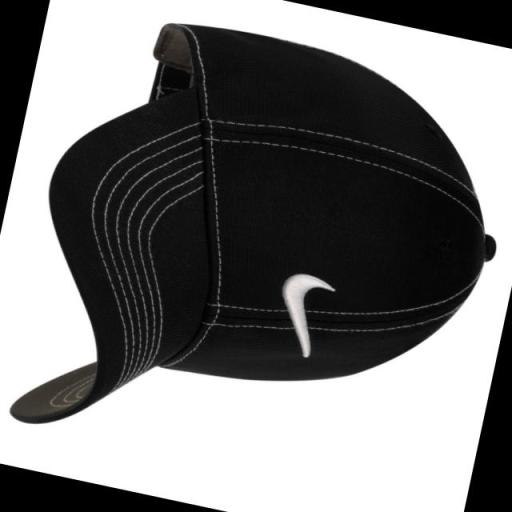Nike: (266, 270, 329, 360)
